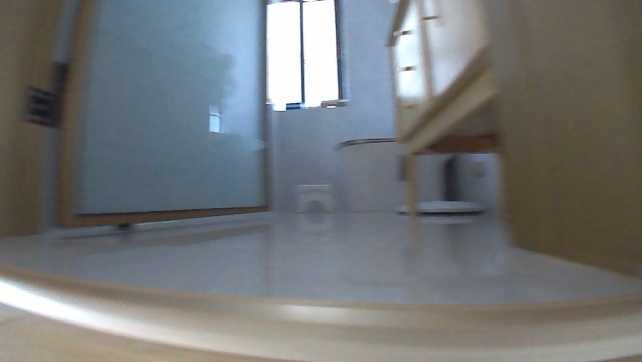door_sill: (1, 261, 640, 360)
toilet: (335, 134, 456, 212)
